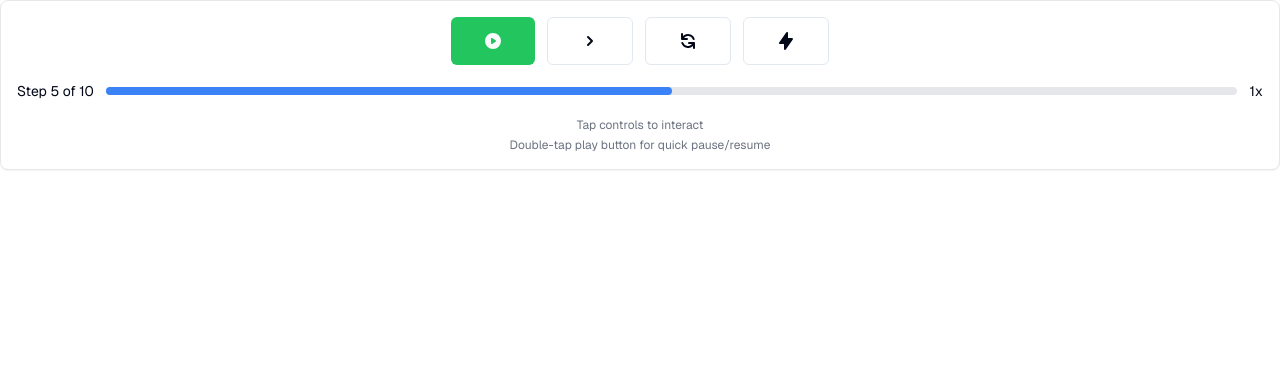
Test: TouchOptimizedControls › shows swipe instructions when speed controls are visible
Click the button named "Toggle speed controls" at (786, 41), box 743,17 -> 829,65
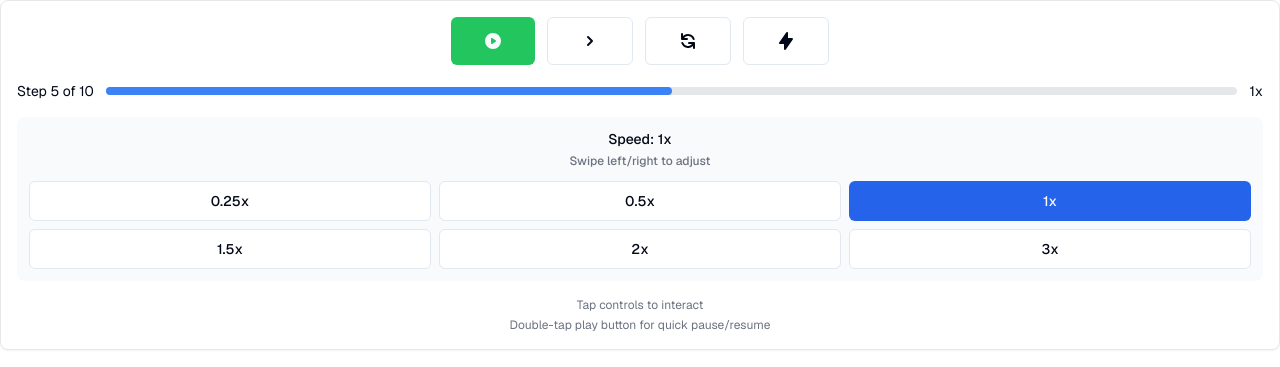
Expected: the text "Swipe left/right to adjust" is shown, 569,153 -> 710,169
